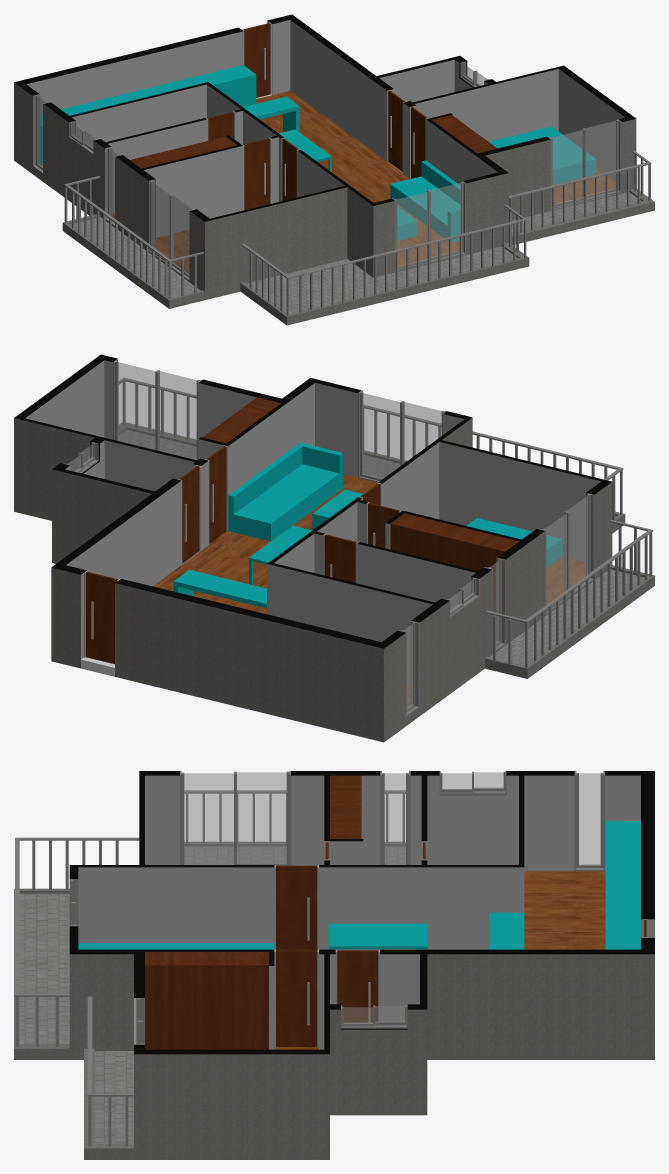
The model's file is proyecto8.glb.
3 views of the same model, one above another, from view 1: azimuth 30°, elevation 25°; view 2: azimuth 150°, elevation 25°; view 3: azimuth 270°, elevation 25° (orthographic). The views are drawn at different scales.
Parts seen in each view (by area): view 1: 38923, 38224, m (×6), 37399 (×3), 37398 (×3), 39333, 39500, 39429, 38427 (×2), 38956, 39107, 38764 (+8 smaller); view 2: 38923, 37398 (×3), m (×5), 39333, 37399 (×3), 38224, 38956, 39107, 38427 (×2), 38957, 39459, 38902 (+6 smaller); view 3: 38923, 38957, m (×3), 38224, 37398, 37399, 39500, 39141, 38928, 38927, 38956, 38764 (+6 smaller).
Part boxes in pixels (bbox=[...]): 38923: bbox=[14, 14, 654, 325]; 38224: bbox=[41, 91, 615, 273]; m (×6): bbox=[206, 22, 428, 210]; 37399 (×3): bbox=[150, 129, 585, 269]; 37398 (×3): bbox=[172, 120, 618, 277]; 39333: bbox=[390, 160, 460, 242]; 39500: bbox=[40, 65, 256, 164]; 39429: bbox=[489, 126, 596, 184]; 38427 (×2): bbox=[32, 94, 122, 226]; 38956: bbox=[130, 136, 237, 168]; 39107: bbox=[243, 96, 299, 132]; 38764: bbox=[241, 205, 526, 278]; 38923: bbox=[14, 354, 654, 742]; 37398 (×3): bbox=[115, 361, 590, 592]; m (×5): bbox=[84, 445, 402, 664]; 39333: bbox=[228, 442, 342, 541]; 37399 (×3): bbox=[157, 370, 569, 612]; 38224: bbox=[81, 474, 585, 706]; 38956: bbox=[390, 513, 518, 633]; 39107: bbox=[173, 569, 266, 608]; 38427 (×2): bbox=[398, 557, 505, 716]; 38957: bbox=[202, 397, 280, 443]; 39459: bbox=[466, 518, 562, 567]; 38902: bbox=[485, 520, 653, 623]; 38923: bbox=[14, 771, 654, 1159]; 38957: bbox=[145, 952, 268, 1049]; m (×3): bbox=[274, 865, 379, 1047]; 38224: bbox=[274, 871, 605, 1049]; 37398: bbox=[181, 772, 236, 864]; 37399: bbox=[234, 771, 289, 865]; 39500: bbox=[605, 821, 640, 949]; 39141: bbox=[328, 923, 427, 949]; 38928: bbox=[576, 773, 603, 867]; 38927: bbox=[382, 773, 408, 864]; 38956: bbox=[330, 775, 361, 838]; 38764: bbox=[15, 837, 139, 996].
Size of the model in its own units: 1.31 by 0.21 by 1.15.
1020 materials, 243 textured.
